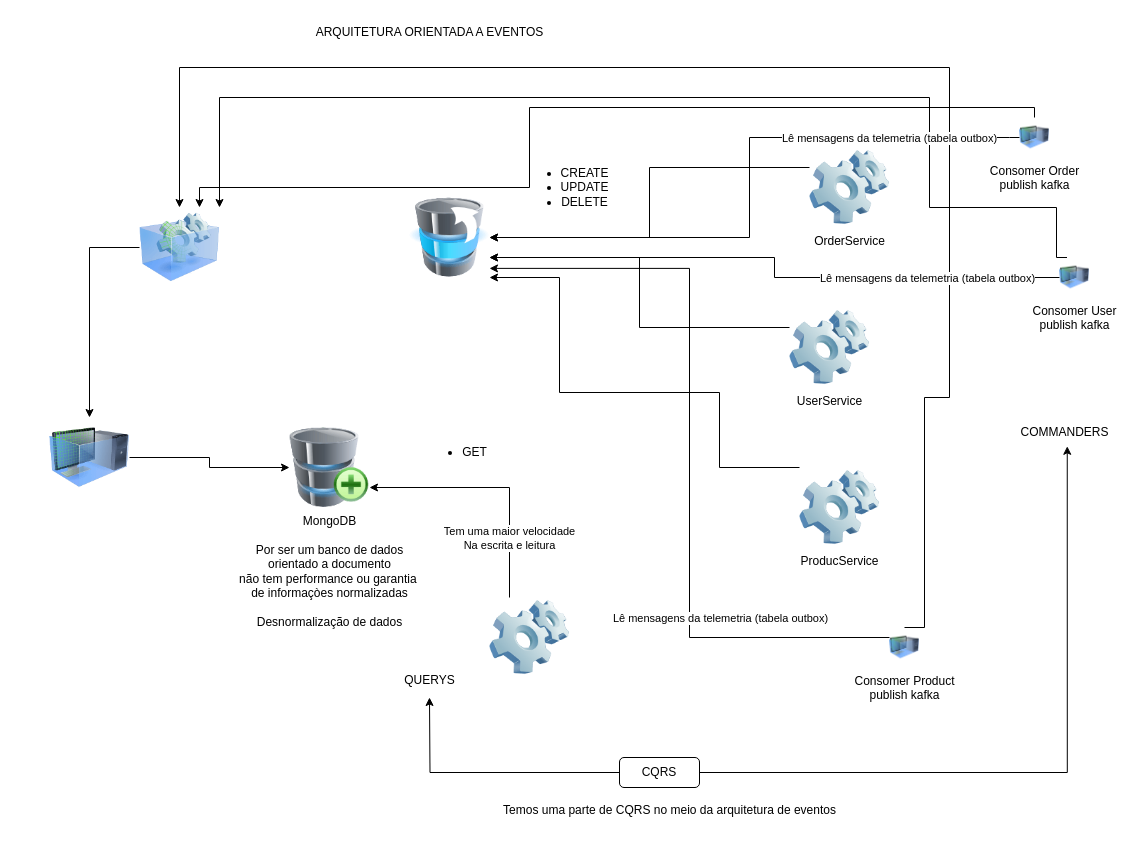
Image size: 1137x842. Some labels were removed from this diagram. Each missing label, with the centre of its shape:
"Consomer Nao vimos no código ainda" belongs at [89,457].
"Kafka Rabtmq Azure Buz SQS [FILA]" belongs at [179,247].
"MySql Para buscar dados consistentes é melhor Normalização de dados" belongs at [449,237].
"QueryService" belongs at [529,637].
